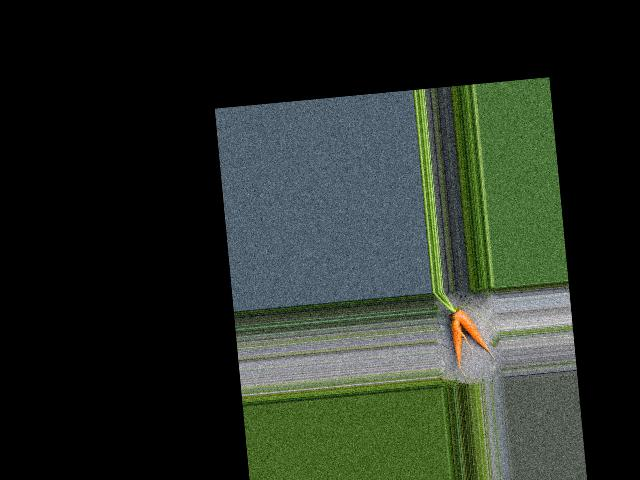carrot: (444, 315, 472, 378)
